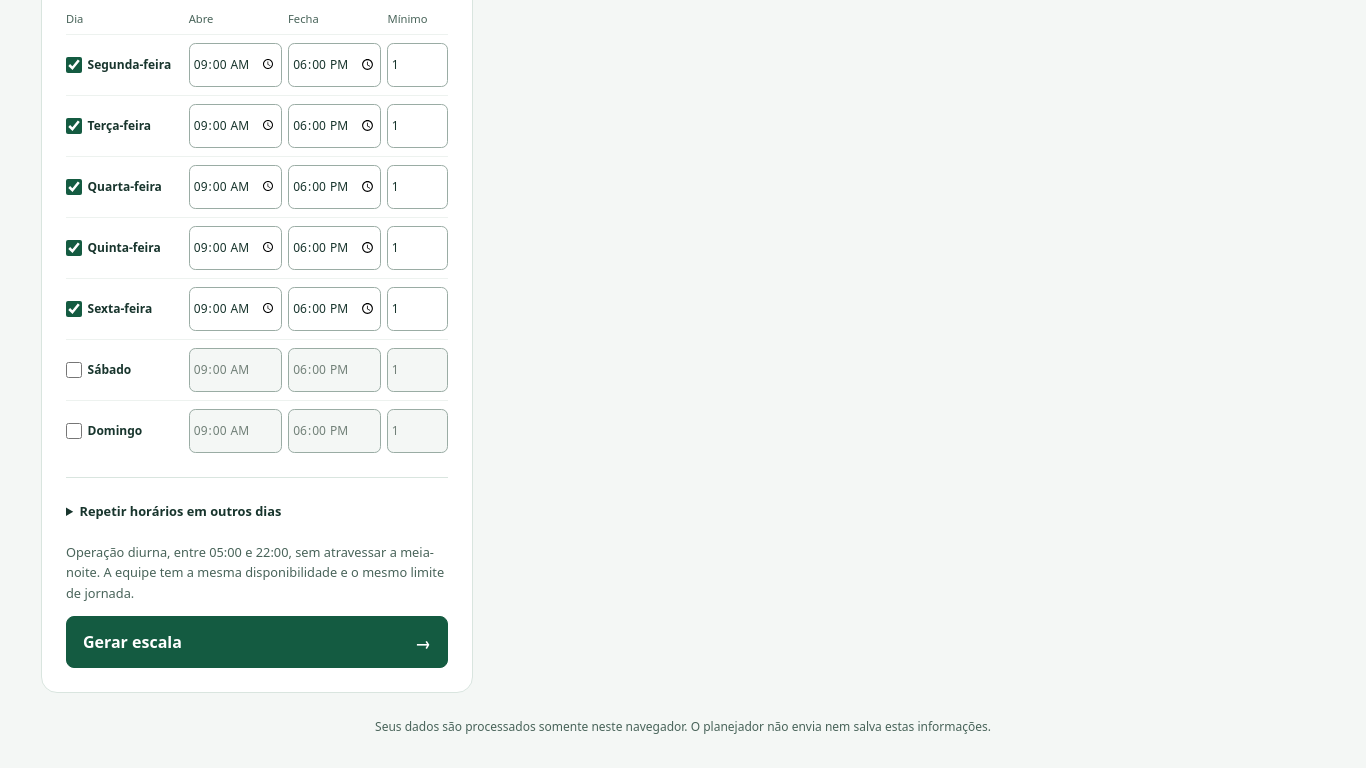
Scenario: simplified weekly planner › reports invalid inputs before generating and focuses the field
(page scrolled)
Click the button "Gerar escala →" at (132, 642), box [66,616,448,668]
(page scrolled)
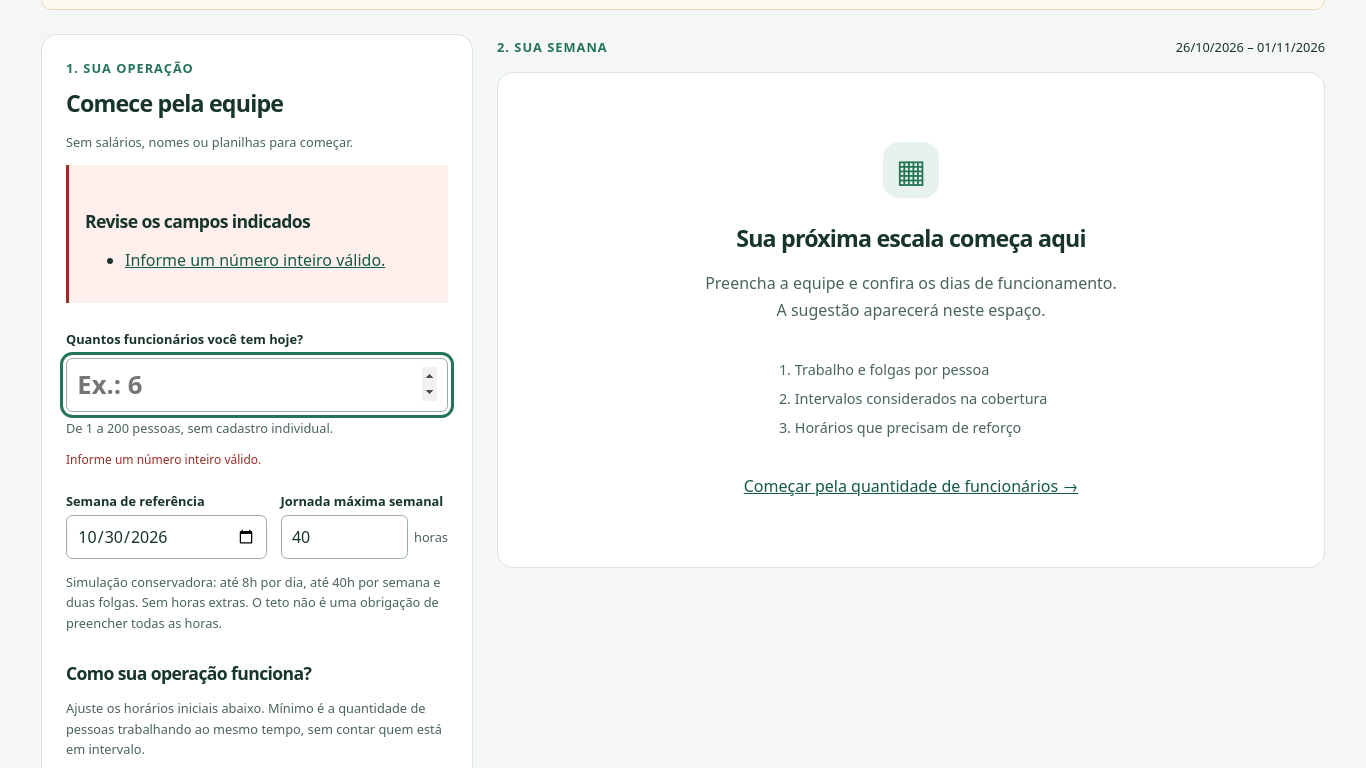
Check: the message "Revise os campos indicados Informe um número inteiro válido." is shown, box [66,165,448,303]
